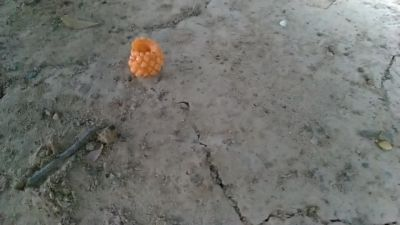eggs: (127, 35, 163, 81)
